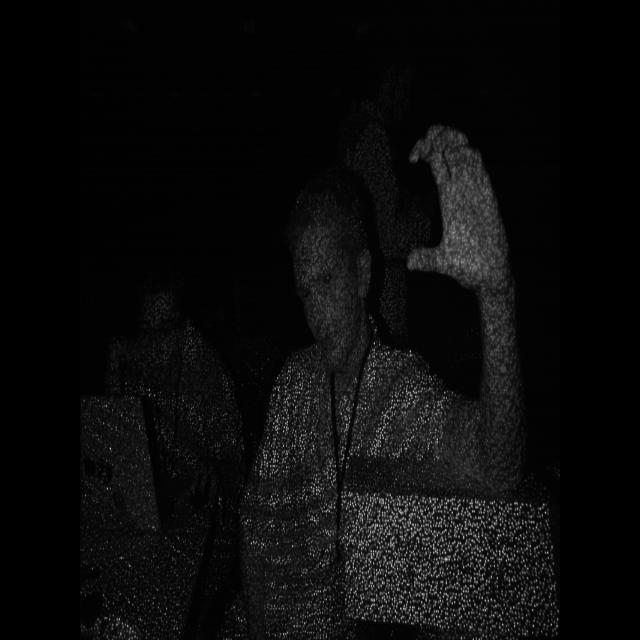C: (394, 106, 522, 305)
